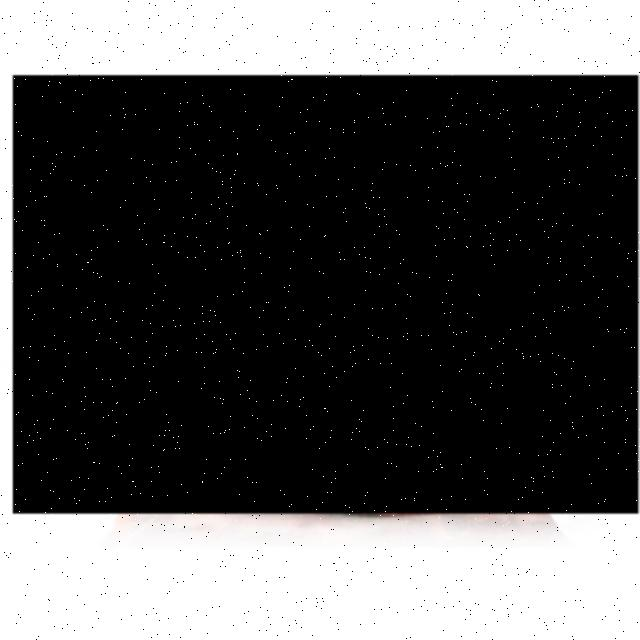Buff_Meat: (13, 75, 640, 514)
